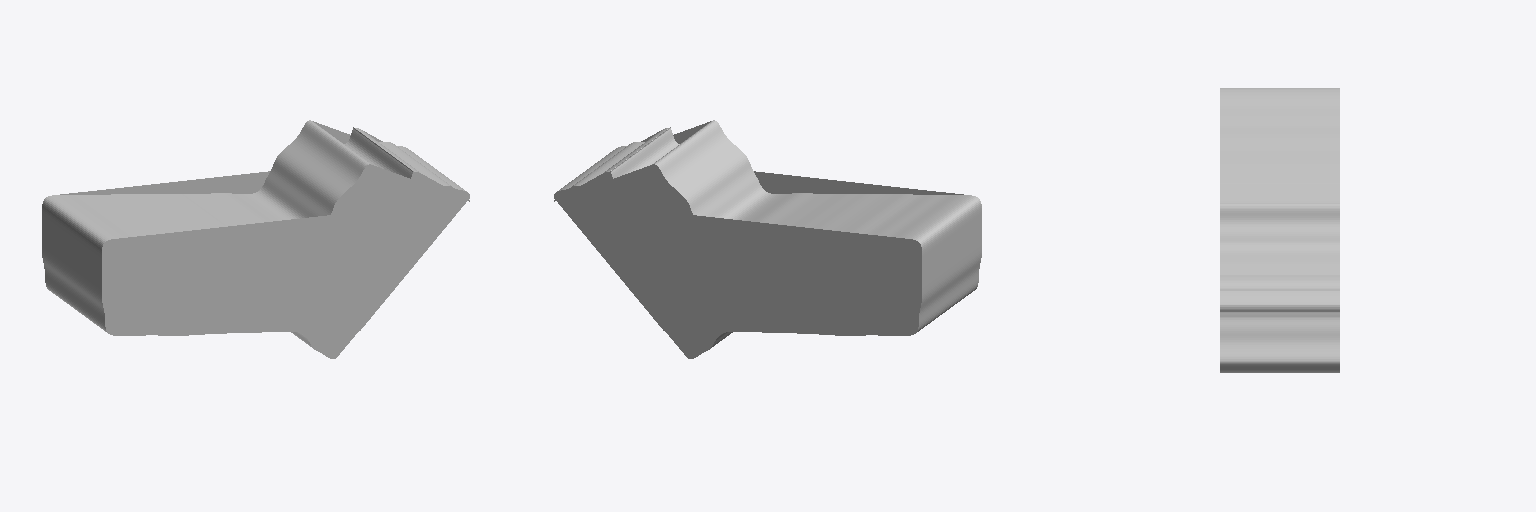
The picture shows the model from 3 angles: view 1: azimuth 30°, elevation 25°; view 2: azimuth 150°, elevation 25°; view 3: azimuth 270°, elevation 25°; orthographic projection.
Visible parts, largest first — view 1: 平面; view 2: 平面; view 3: 平面.
Boxes of the visible parts, box(x1,y1,x2,y2) form: 平面: box(42, 120, 469, 358); 平面: box(554, 120, 981, 358); 平面: box(1220, 88, 1339, 372).
Bounding box in the file's own units: 0.7093 × 0.3433 × 0.2.